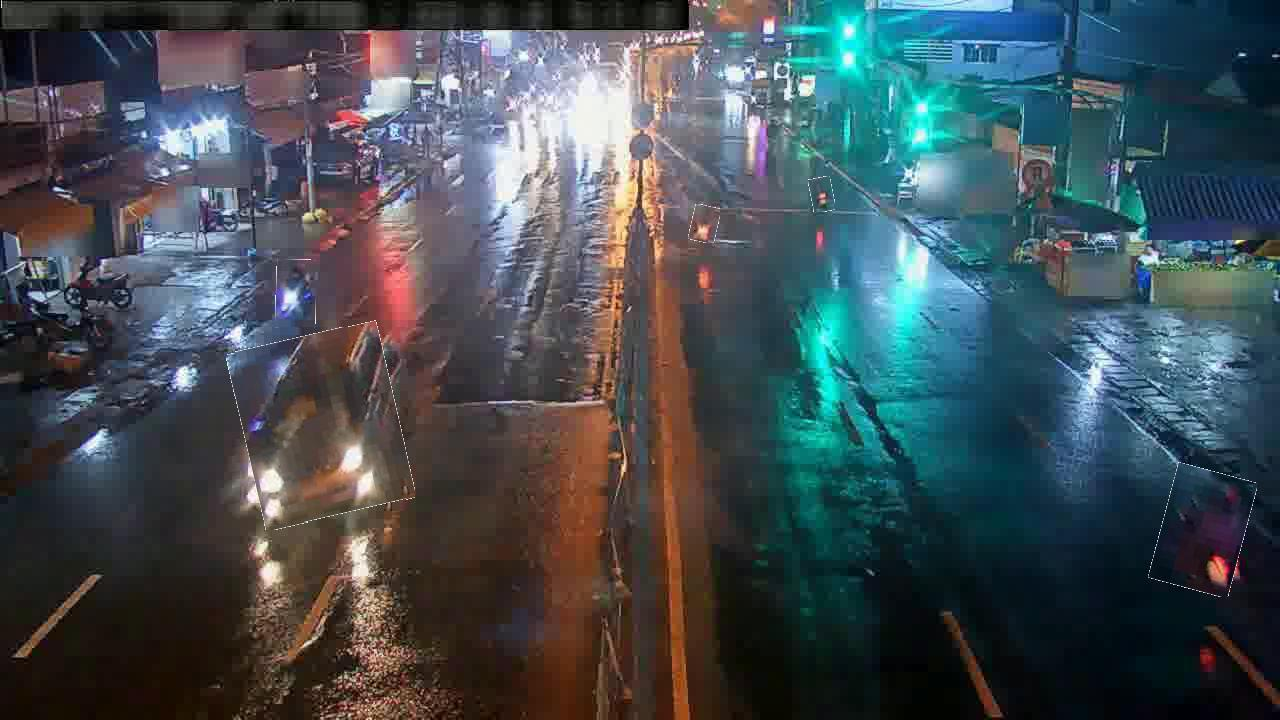container: (235, 328, 407, 524)
motorbike: (1155, 467, 1251, 594), (276, 260, 317, 330), (690, 205, 720, 243), (810, 177, 834, 213)
